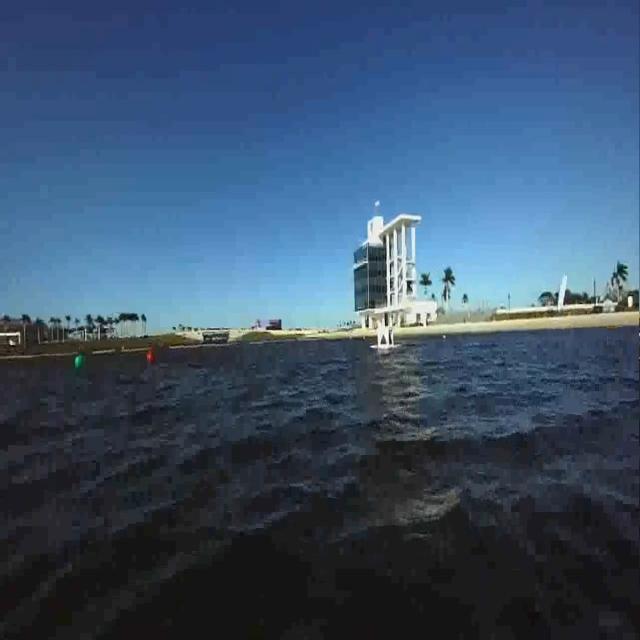green-buoy: (74, 354, 85, 369)
red-buoy: (143, 348, 156, 368)
